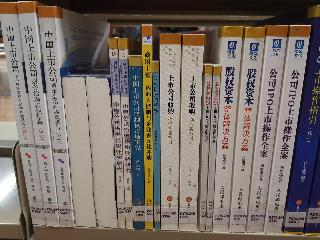book-spine: (258, 24, 312, 236), (1, 0, 46, 227), (241, 23, 289, 234), (15, 0, 59, 226), (278, 17, 320, 236), (37, 6, 78, 229), (226, 25, 265, 233), (208, 25, 244, 233), (172, 33, 205, 231), (61, 74, 98, 230), (85, 77, 119, 231), (157, 33, 181, 229), (107, 36, 126, 231), (128, 56, 145, 230), (118, 38, 133, 230), (141, 23, 154, 230), (205, 65, 221, 231), (198, 64, 212, 232), (150, 61, 161, 230)
